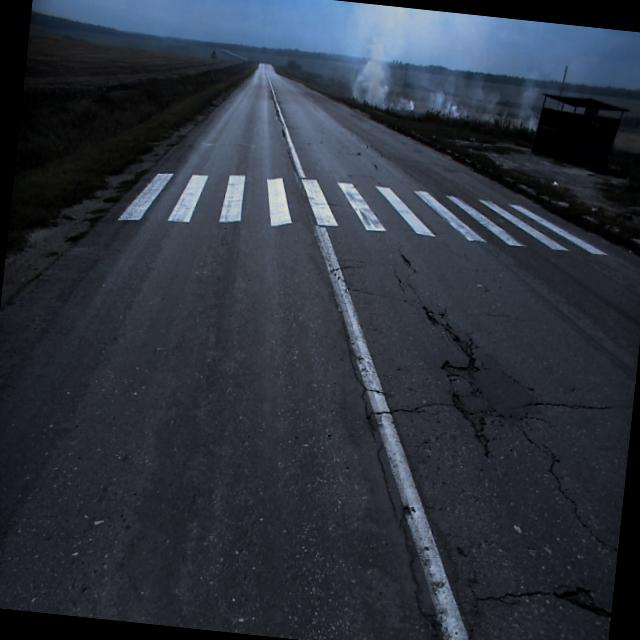road: (0, 63, 640, 640)
